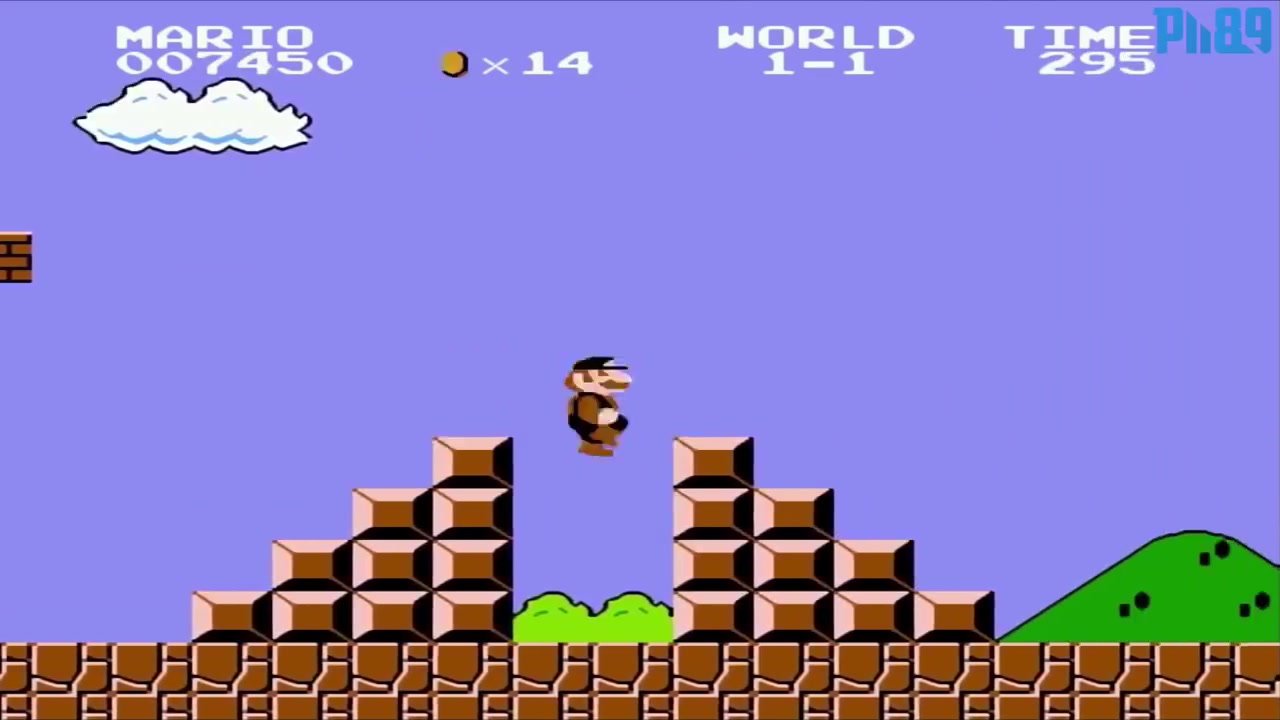mario: (553, 349, 643, 467)
